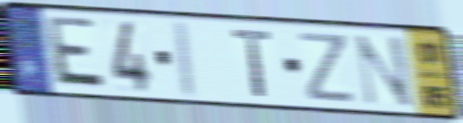4: (109, 17, 154, 96)
E: (46, 13, 110, 94)
I: (174, 17, 201, 101)
N: (352, 32, 417, 110)
T: (230, 27, 275, 100)
Z: (296, 29, 357, 106)
